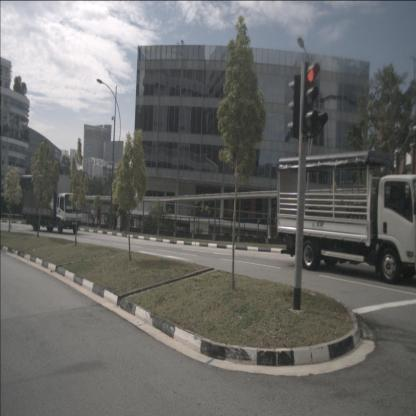human-pedestrian-adult: (91, 207, 96, 228), (97, 206, 101, 228)
vehicle-truck: (276, 150, 416, 284), (22, 173, 82, 235)
